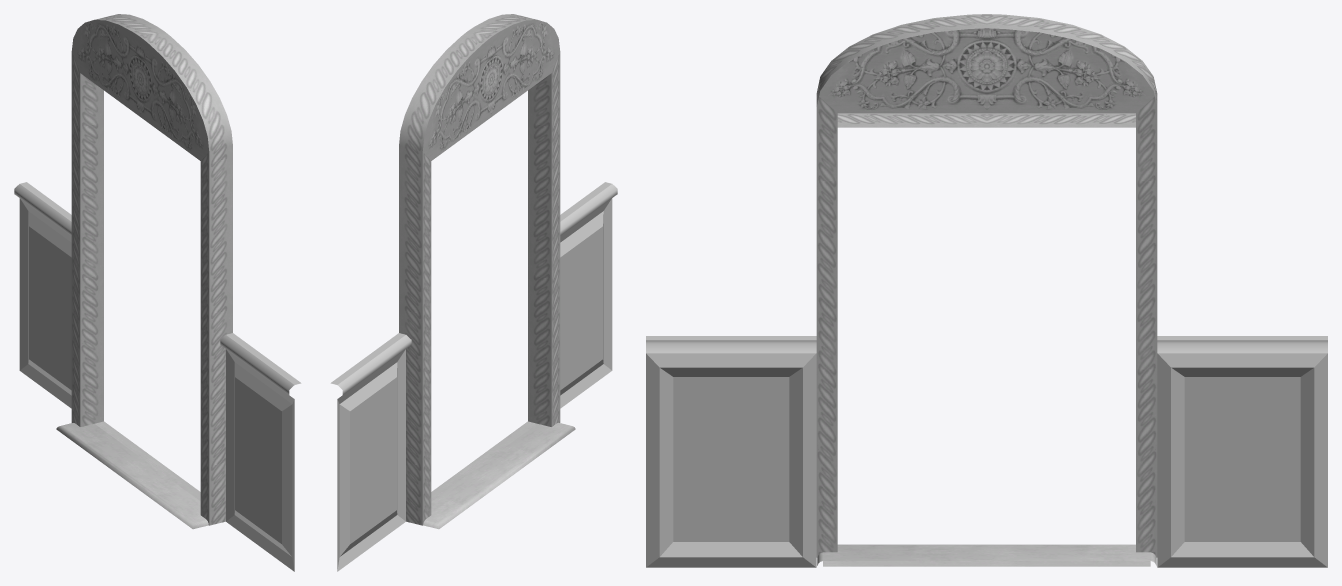
Rendered from wood_panneling_door_frame_white.DAE.
The picture shows the model from 3 angles, left to right: view 1: azimuth 30°, elevation 25°; view 2: azimuth 150°, elevation 25°; view 3: azimuth 270°, elevation 25°; orthographic projection. The views are drawn at different scales.
Parts seen in each view (by area): view 1: Box013, Box012; view 2: Box013, Box012; view 3: Box012, Box013.
Part boxes in pixels (<box>): Box013: <box>56,14,232,529</box>; Box012: <box>14,182,301,571</box>; Box013: <box>399,14,575,529</box>; Box012: <box>330,182,617,571</box>; Box012: <box>646,336,1327,567</box>; Box013: <box>816,14,1157,566</box>.
Size of the model in its own units: 0.3344 by 3.52 by 4.
